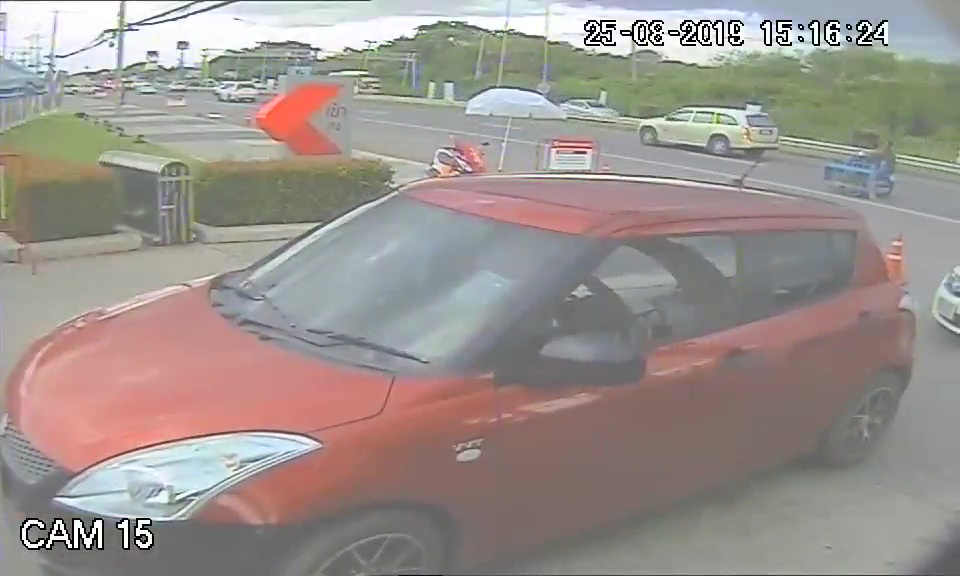sedan: (12, 163, 905, 548)
